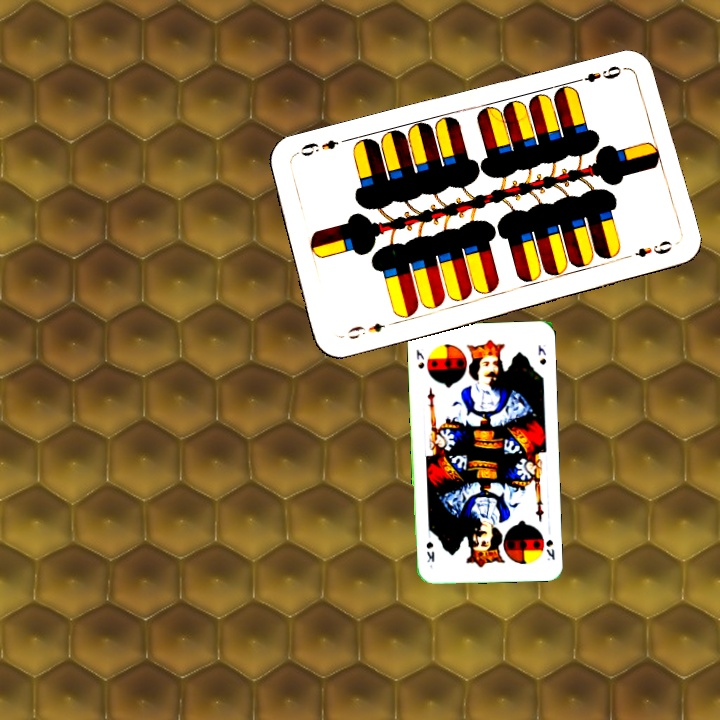E9: (571, 61, 624, 86), (343, 318, 388, 342)
SK: (542, 536, 557, 563), (412, 345, 427, 371)
